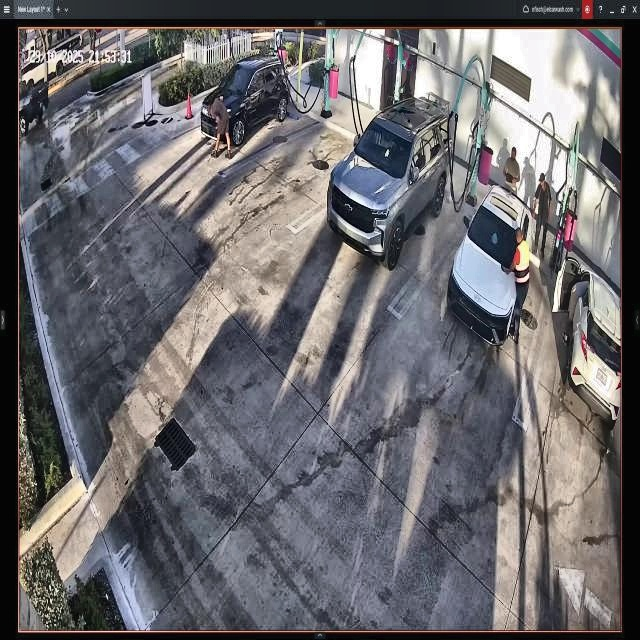Car: (327, 103, 453, 270), (447, 184, 531, 340)
